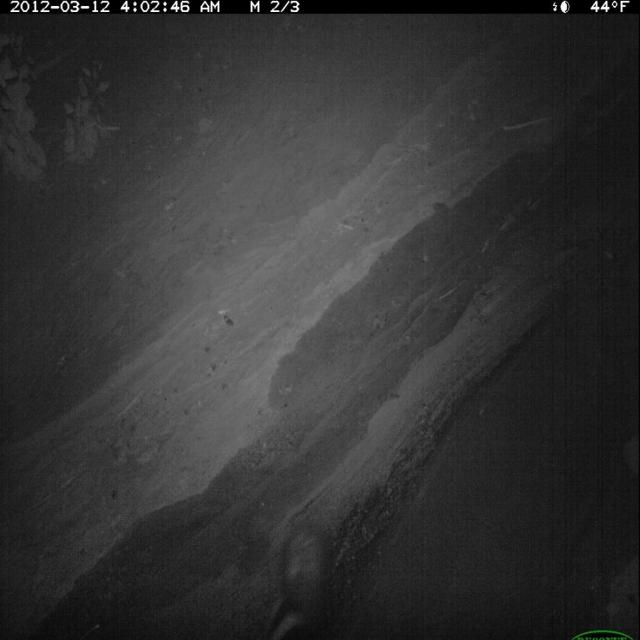skunk: (261, 510, 341, 640)
